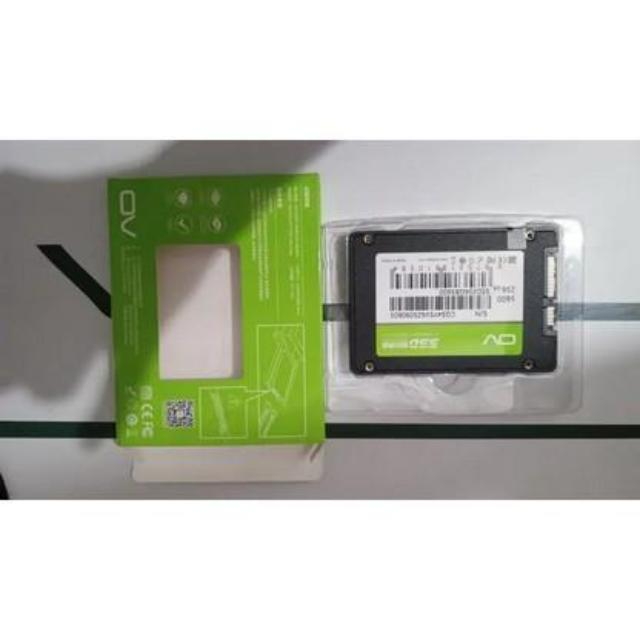DISK: (336, 222, 582, 387)
